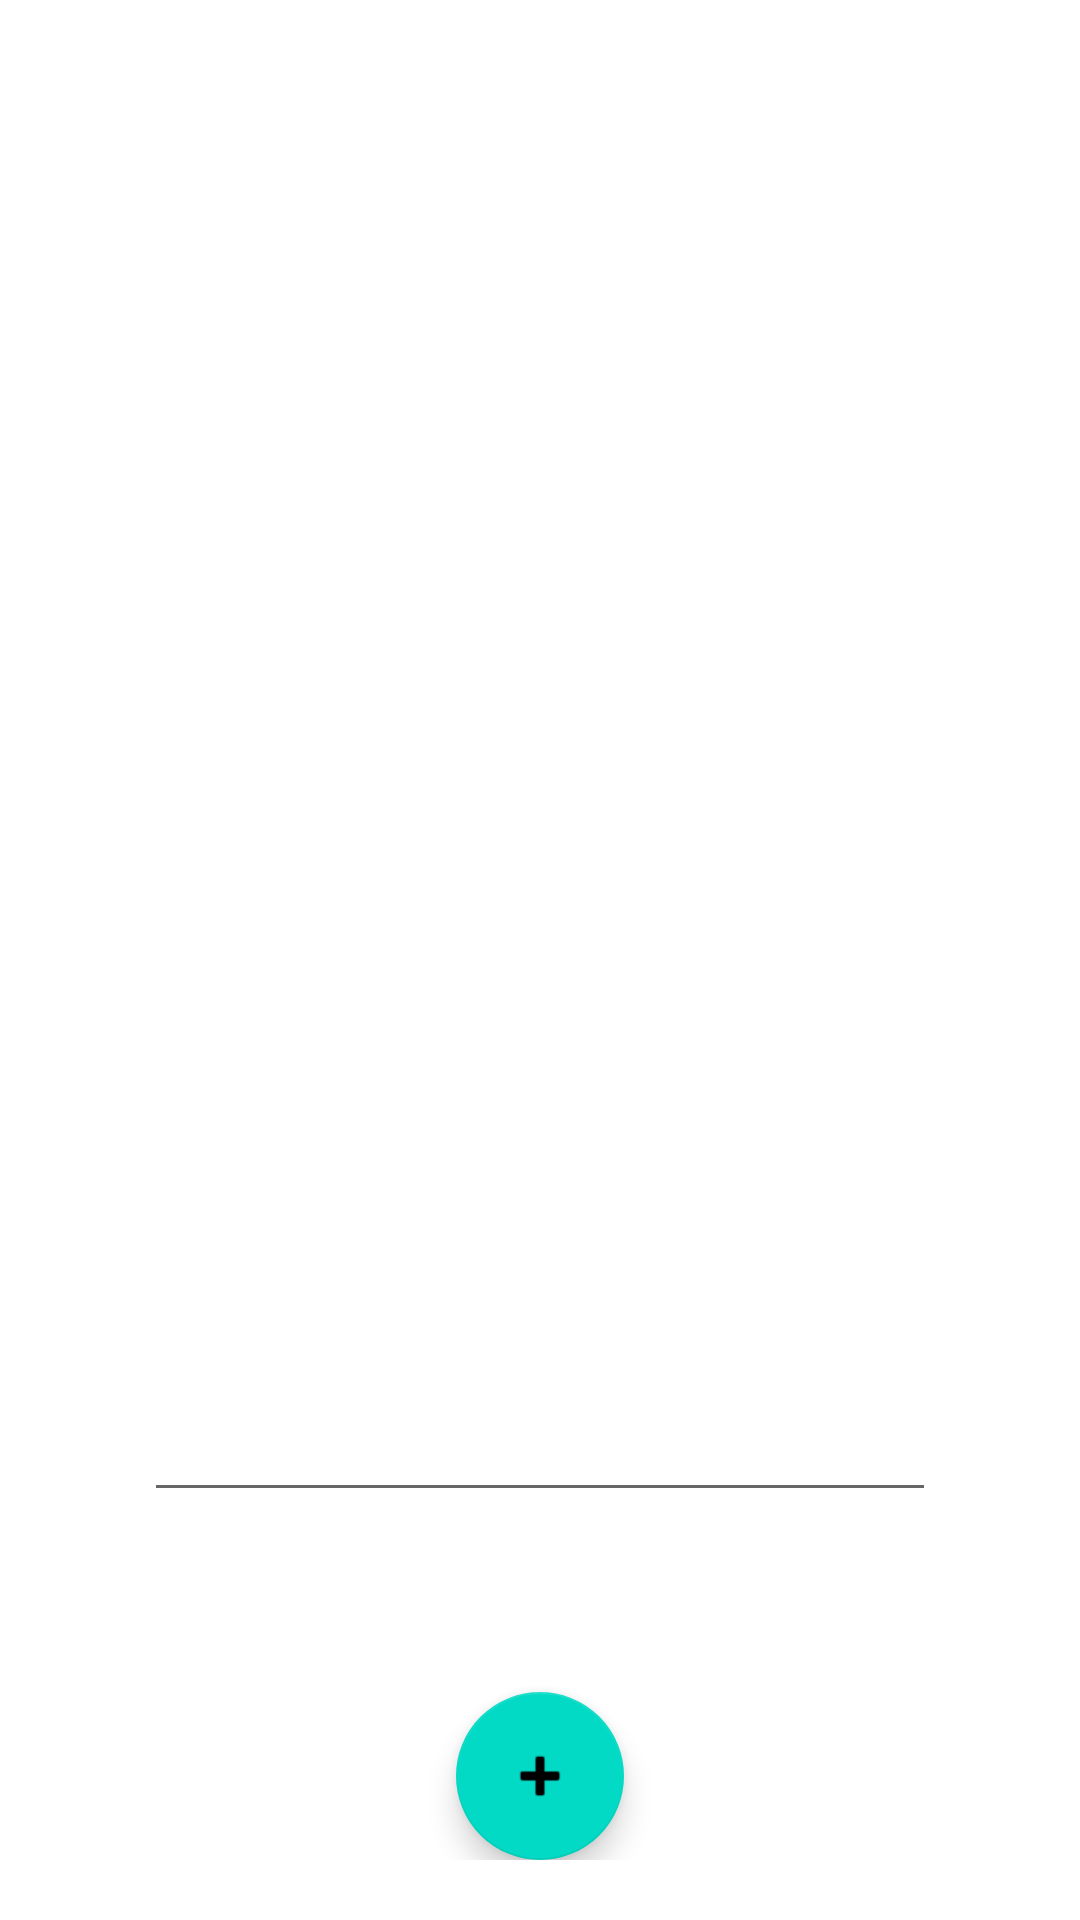

Icon click points for this 1080w x 1920h phone screenshot, format (x=x, y=y):
add: (x=540, y=1776)
